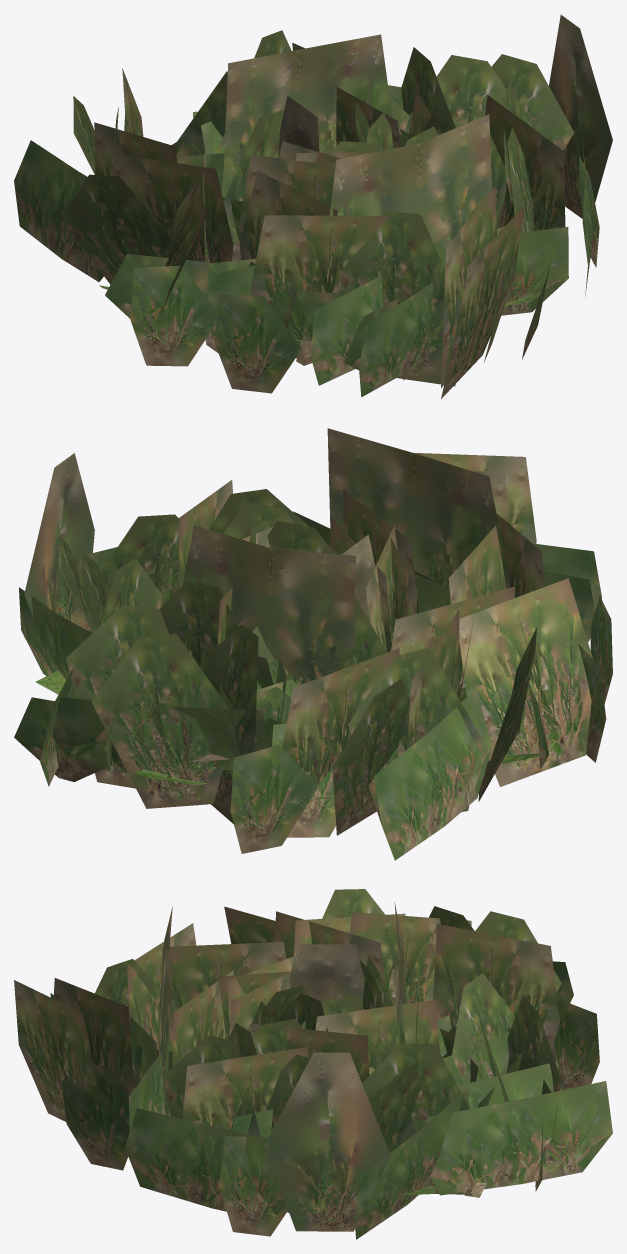
The model's file is Meadow_Grass_01_Var2_TestWind.FBX.
3 views of the same model, one above another, from view 1: azimuth 30°, elevation 25°; view 2: azimuth 150°, elevation 25°; view 3: azimuth 270°, elevation 25° (orthographic). The views are drawn at different scales.
Parts seen in each view (by area): view 1: Meadow_Grass_01_Var2_LOD1; view 2: Meadow_Grass_01_Var2_LOD1; view 3: Meadow_Grass_01_Var2_LOD1.
Part boxes in pixels (<box>): Meadow_Grass_01_Var2_LOD1: <box>14,14,612,398</box>; Meadow_Grass_01_Var2_LOD1: <box>14,428,612,860</box>; Meadow_Grass_01_Var2_LOD1: <box>14,889,612,1239</box>.
Size of the model in its own units: 96.11 by 39.02 by 104.
